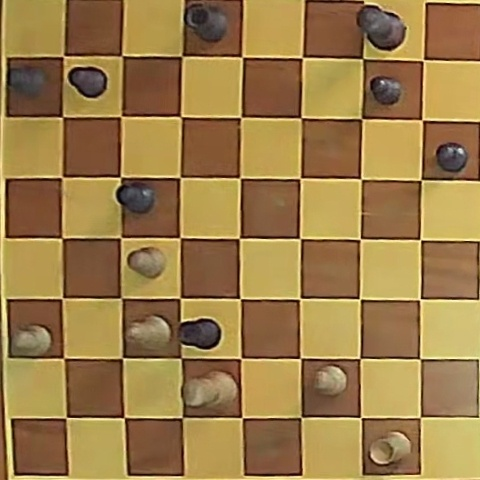black-king: (357, 5, 406, 50)
black-pawn: (117, 182, 156, 214), (69, 67, 107, 98), (8, 66, 46, 97), (436, 143, 468, 173), (370, 76, 402, 105)
black-rook: (184, 2, 227, 42), (179, 318, 221, 350)
white-bishop: (127, 315, 171, 351)
white-king: (184, 371, 236, 408)
white-pawn: (12, 324, 53, 357), (127, 247, 166, 278), (314, 365, 347, 396)
white-rook: (369, 432, 411, 465)
